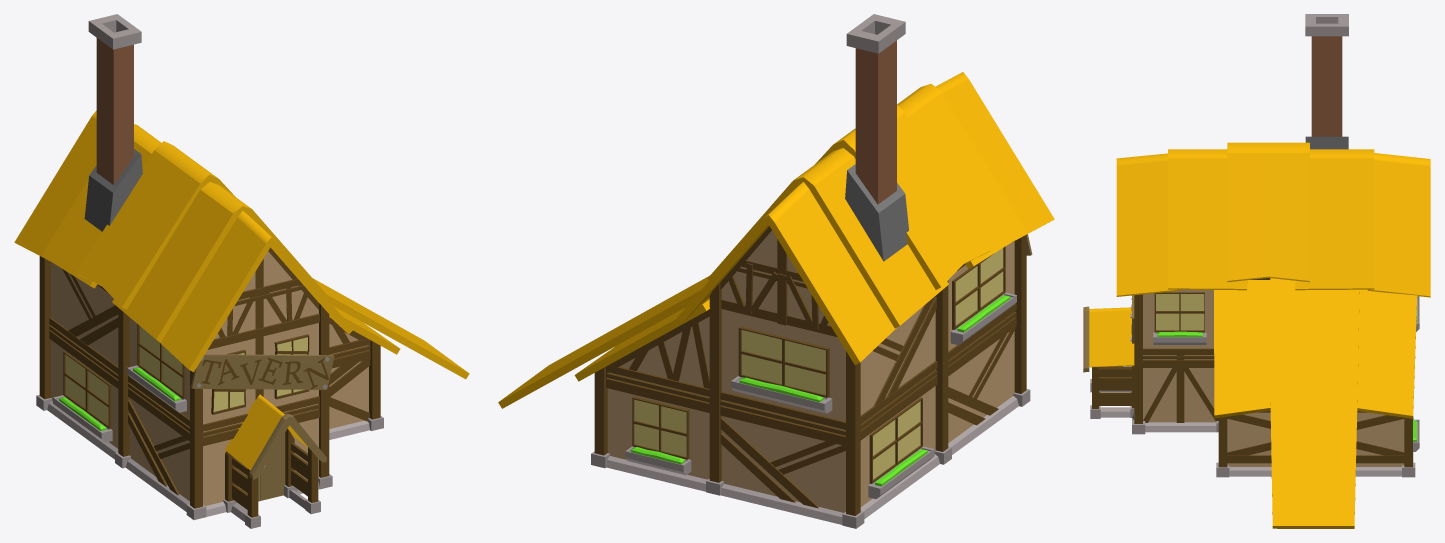
The model's file is Modular_Houses_Tavern.fbx.
3 renders of one model, left to right at view 1: azimuth 30°, elevation 25°; view 2: azimuth 150°, elevation 25°; view 3: azimuth 270°, elevation 25°, orthographic. The views are drawn at different scales.
Parts seen in each view (by area): view 1: Tavern; view 2: Tavern; view 3: Tavern.
Boxes of the visible parts, left/top/right/bottom form: Tavern: left=14, top=14, right=469, bottom=528; Tavern: left=498, top=14, right=1054, bottom=528; Tavern: left=1083, top=14, right=1430, bottom=528.
Size of the model in its own units: 13.46 by 14.12 by 12.08.
Materials: 1 (1 with a texture image).
